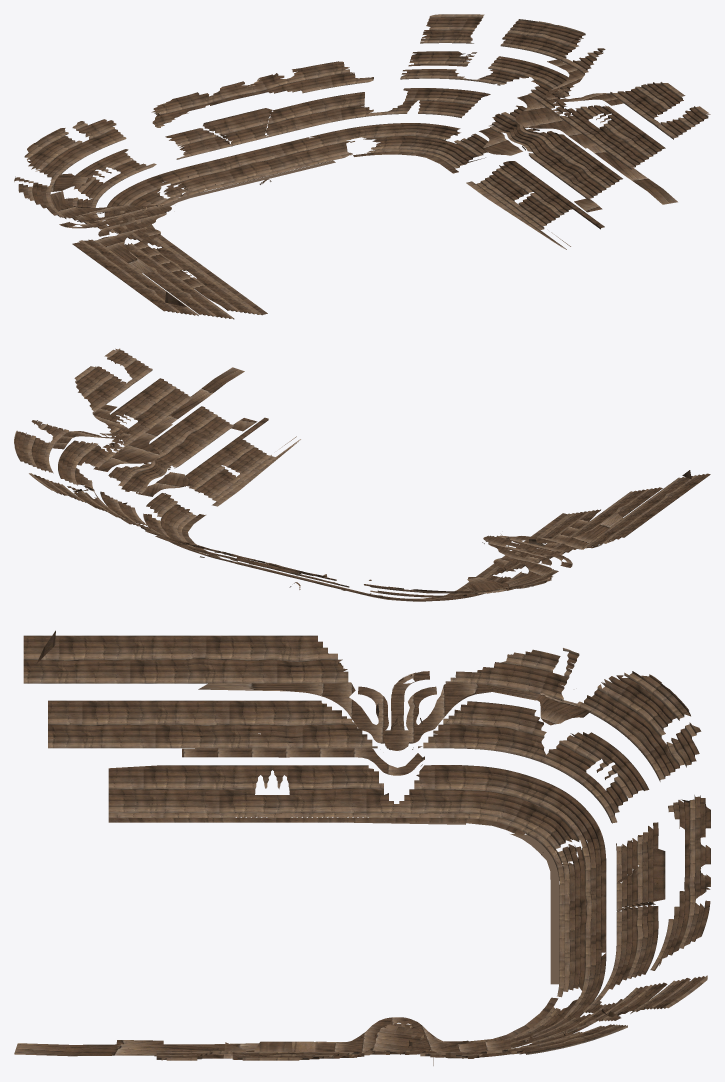
File: Arena Stairs 2.obj
3 renders of one model, top to bottom at view 1: azimuth 30°, elevation 25°; view 2: azimuth 150°, elevation 25°; view 3: azimuth 270°, elevation 25°, orthographic. The views are drawn at different scales.
Parts seen in each view (by area): view 1: Arena Stairs 2; view 2: Arena Stairs 2; view 3: Arena Stairs 2.
Part boxes in pixels (x1,y1,x2,y2): Arena Stairs 2: [14, 14, 710, 319]; Arena Stairs 2: [14, 348, 710, 601]; Arena Stairs 2: [14, 630, 710, 1065].
Bounding box in the file's own units: 123 × 16.83 × 78.78.
1 material, 1 textured.
